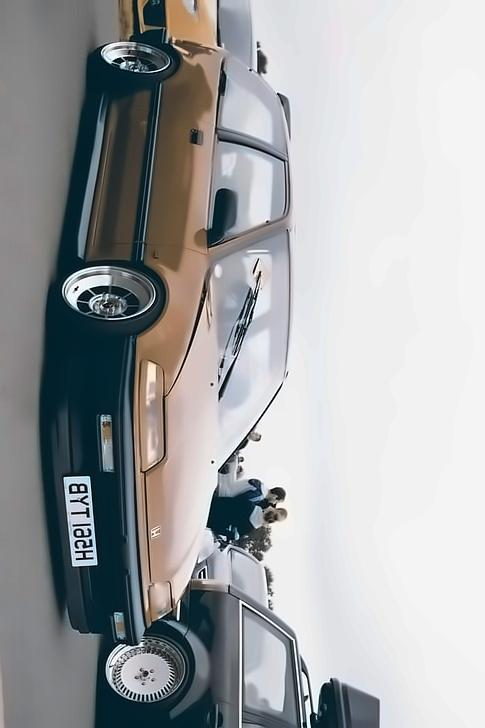Car hood: (131, 285, 226, 633)
Driver-s door - -F-R-: (84, 129, 293, 254)
Fender - -F-R-: (71, 243, 217, 397)
Fender - -R-R-: (113, 29, 226, 121)
Front bumper: (33, 304, 137, 655)
Headlight - -L-: (139, 574, 184, 634)
Headlight - -R-: (131, 353, 173, 479)
Side bumper - -R-: (69, 68, 107, 270)
Side mirror - -R-: (201, 176, 242, 250)
